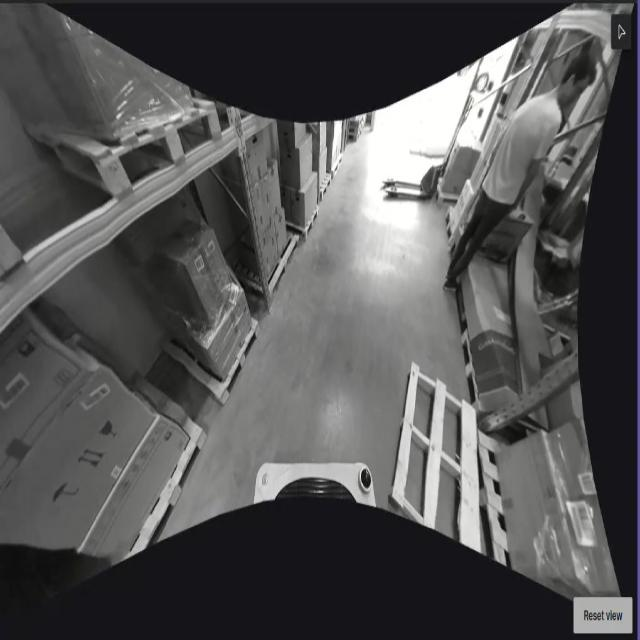Pallets-and-forklifts: (41, 97, 229, 205), (391, 361, 483, 555), (127, 383, 212, 545), (381, 102, 475, 204), (181, 321, 265, 408), (267, 234, 303, 304)
